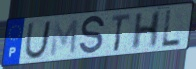H: (130, 9, 163, 51)
L: (160, 8, 183, 49)
M: (48, 18, 79, 59)
S: (78, 14, 107, 57)
T: (110, 13, 132, 53)
U: (23, 19, 53, 60)
